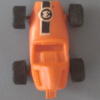naranja: (14, 2, 83, 96)
